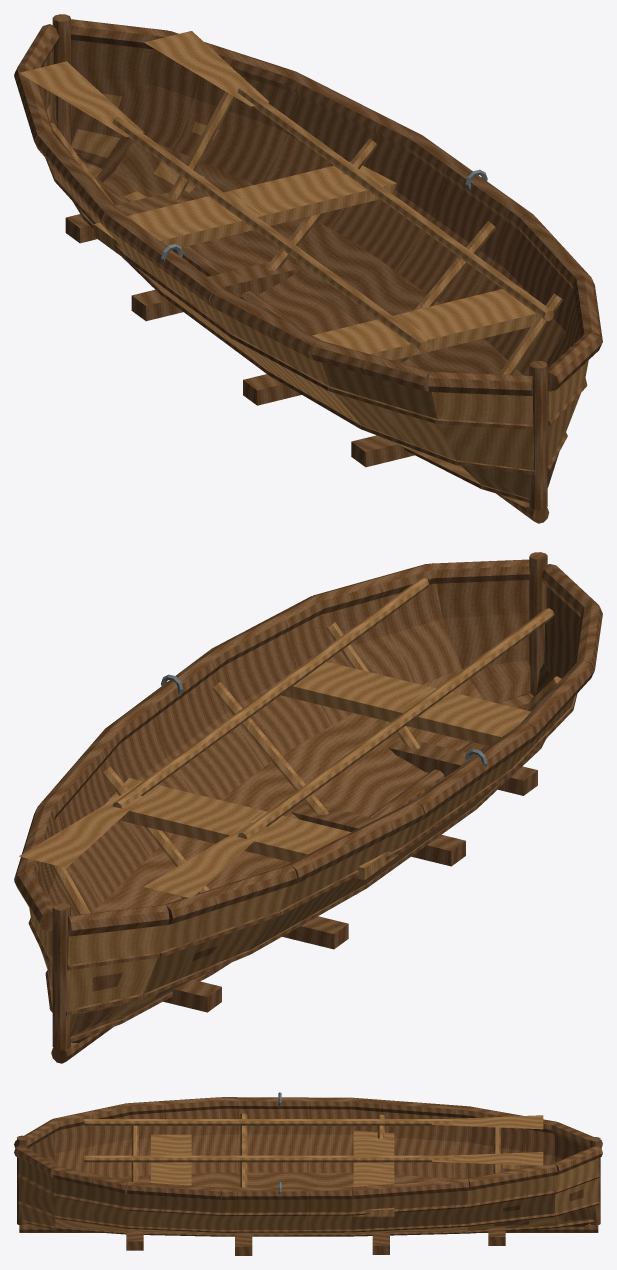
The picture shows the model from 3 angles, top to bottom: view 1: azimuth 30°, elevation 25°; view 2: azimuth 150°, elevation 25°; view 3: azimuth 270°, elevation 25°; orthographic projection. The views are drawn at different scales.
Parts seen in each view (by area): view 1: rowboat; view 2: rowboat; view 3: rowboat.
Part boxes in pixels (x1=…): rowboat: x1=14, y1=14, x2=602, y2=523; rowboat: x1=14, y1=552, x2=602, y2=1063; rowboat: x1=14, y1=1092, x2=602, y2=1255.
Size of the model in its own units: 1.57 by 0.722 by 4.07.
3 materials, 3 textured.
